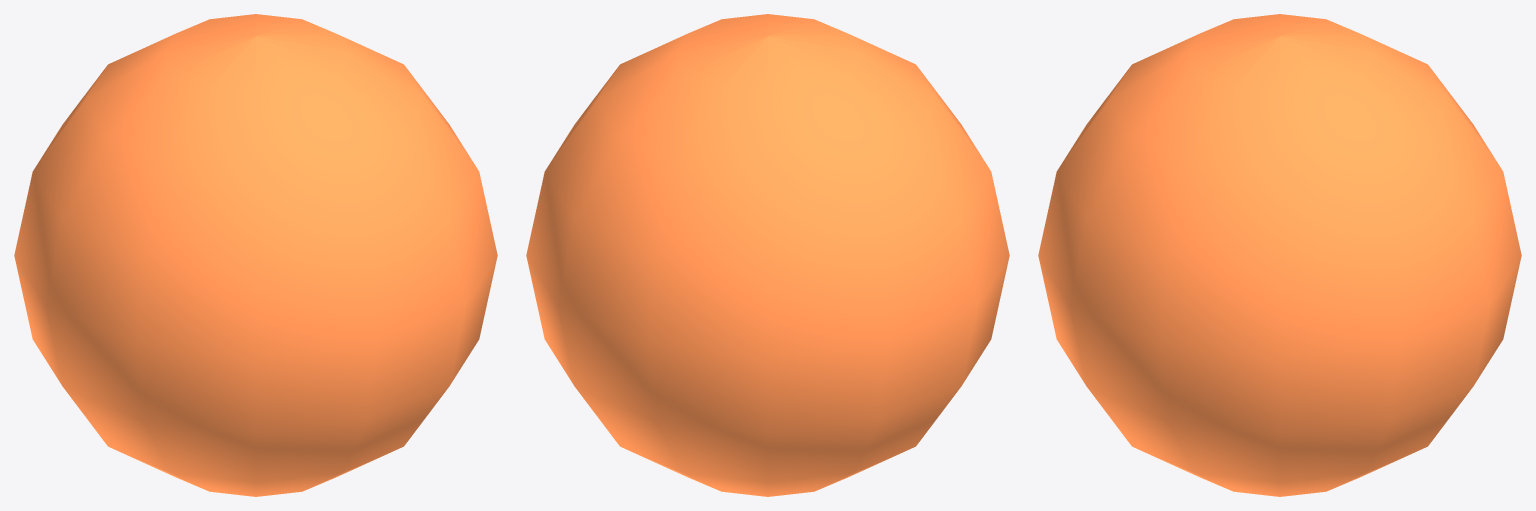
The model's file is ember.glb.
The picture shows the model from 3 angles, left to right: view 1: azimuth 30°, elevation 25°; view 2: azimuth 150°, elevation 25°; view 3: azimuth 270°, elevation 25°; orthographic projection.
Parts seen in each view (by area): view 1: effect; view 2: effect; view 3: effect.
Part boxes in pixels (x1,y1,x2,y2): effect: (14,14,497,496); effect: (526,14,1009,496); effect: (1038,14,1521,496).
Size of the model in its own units: 2 by 2 by 2.
